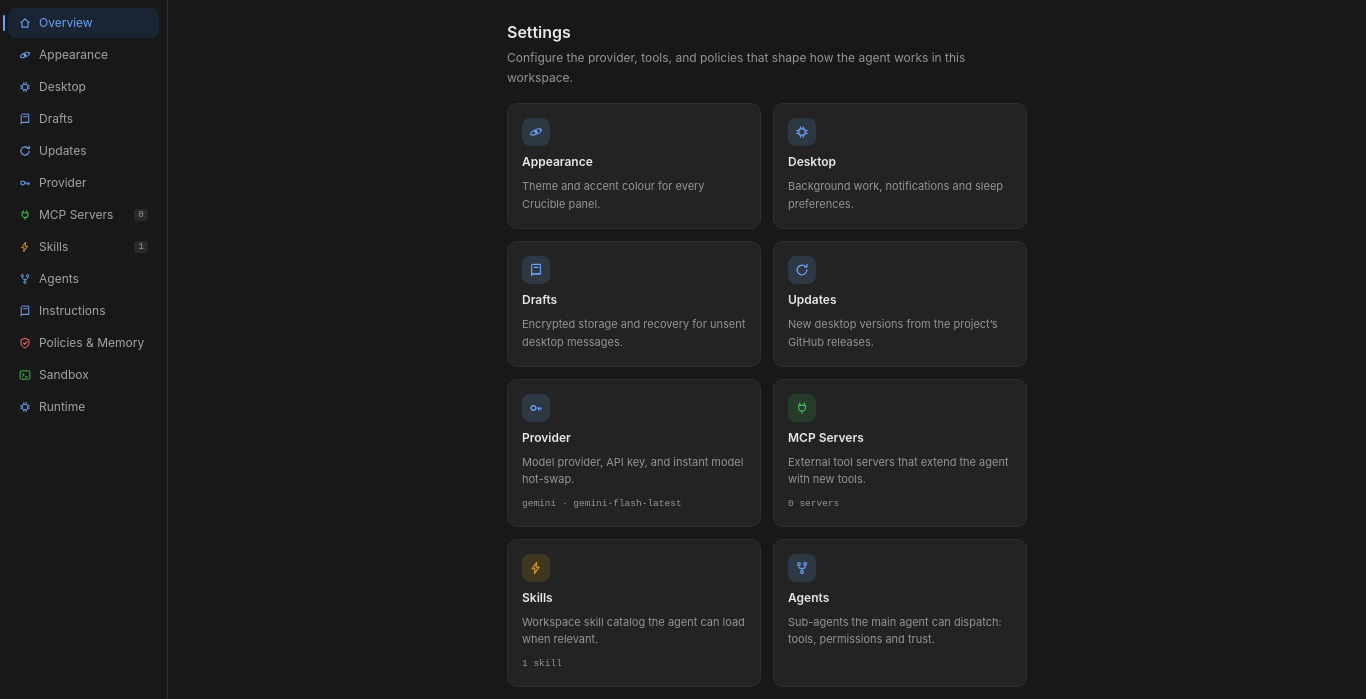
Test: desktop draft settings placement › keeps Overview first and opens Drafts from its card and navigation
The width and height of the screenshot is (1366, 699).
Expected: the heading reads "Settings", [507,22,571,42]
Expected: the checkbox labelled "Save encrypted drafts" is not shown
Click the button "Drafts Encrypted storage" at (634, 304), box [507,241,761,367]
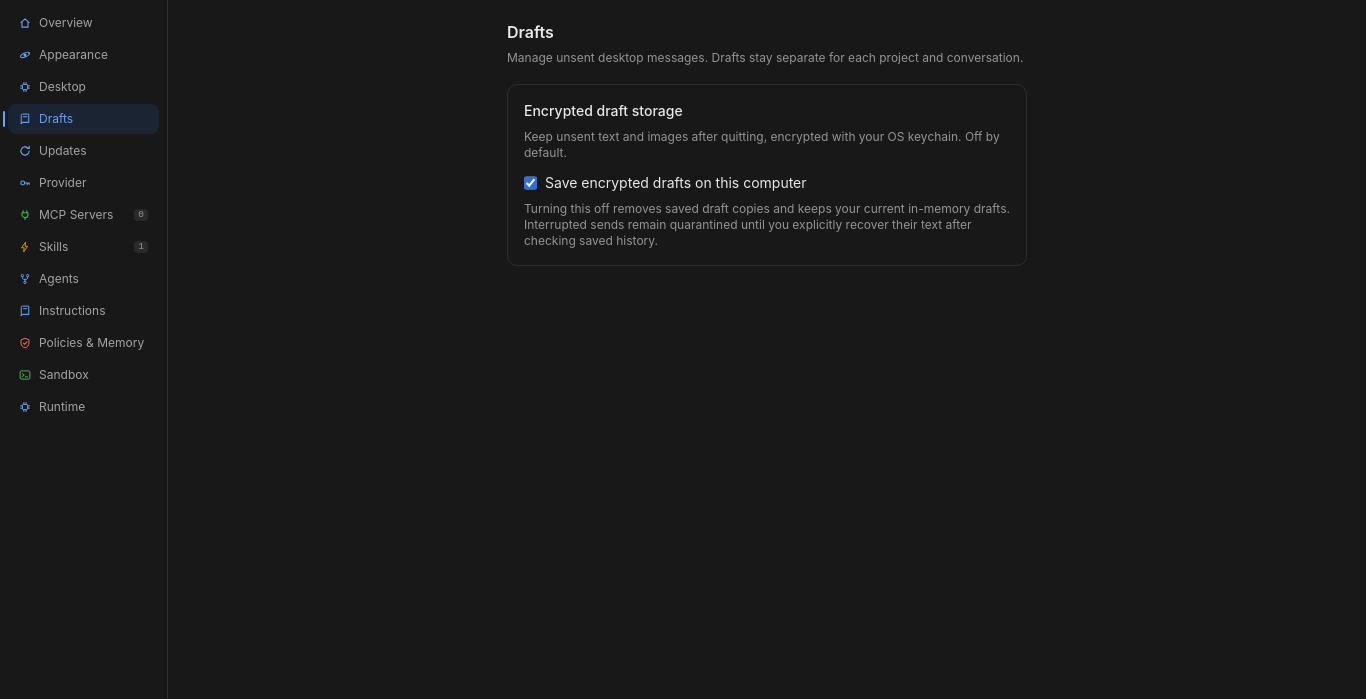
Now the heading "Drafts" is shown, box [507,22,554,42]
Now the checkbox labelled "Save encrypted drafts on this computer" is checked, box [524,172,537,192]
Click the button "Overview" at (84, 23), box [8,8,159,38]
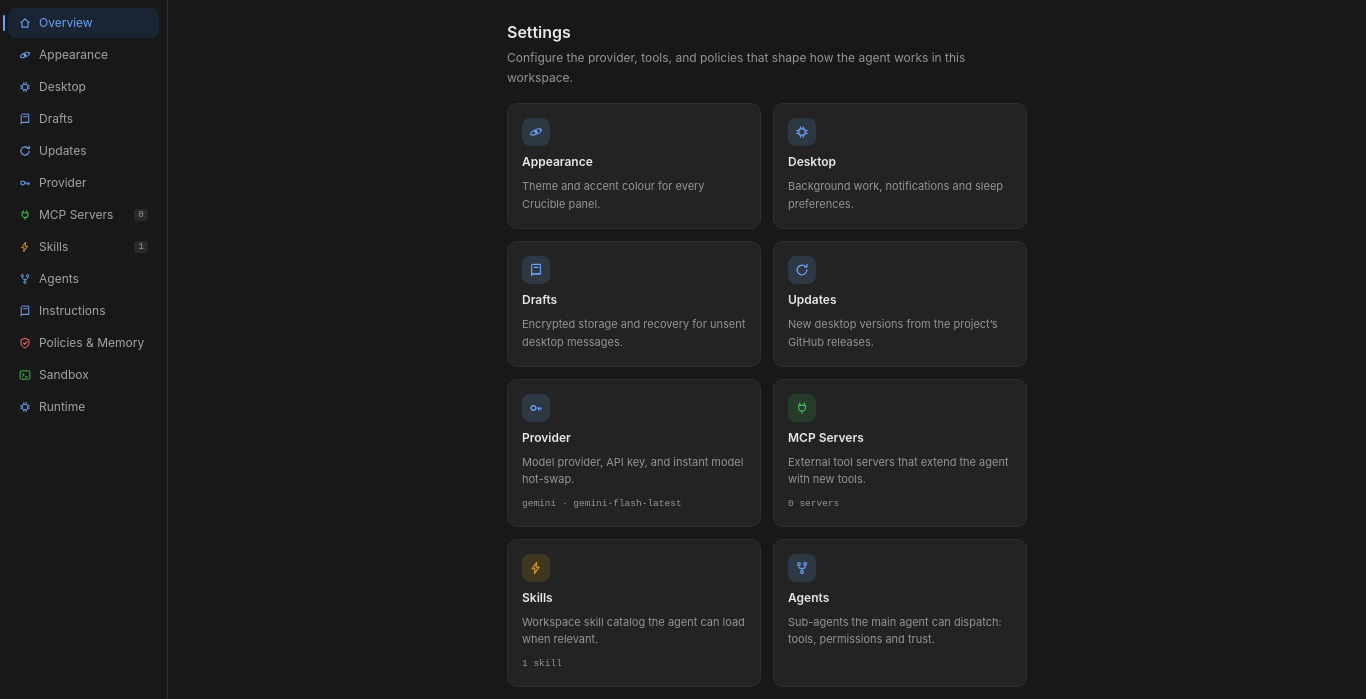
Now the label "Save encrypted drafts" is gone
Click the button "Drafts" at (84, 119), box [8,104,159,134]
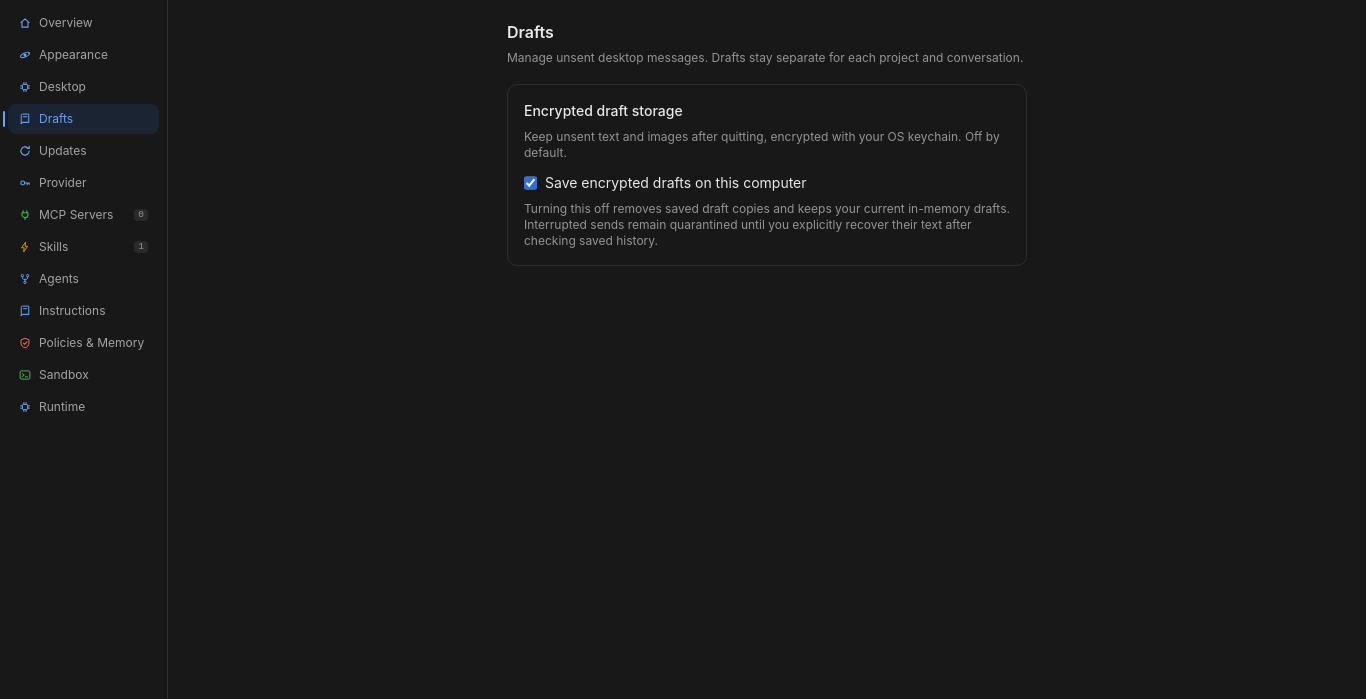
Now the checkbox labelled "Save encrypted drafts on this computer" is checked, box [524,172,537,192]
